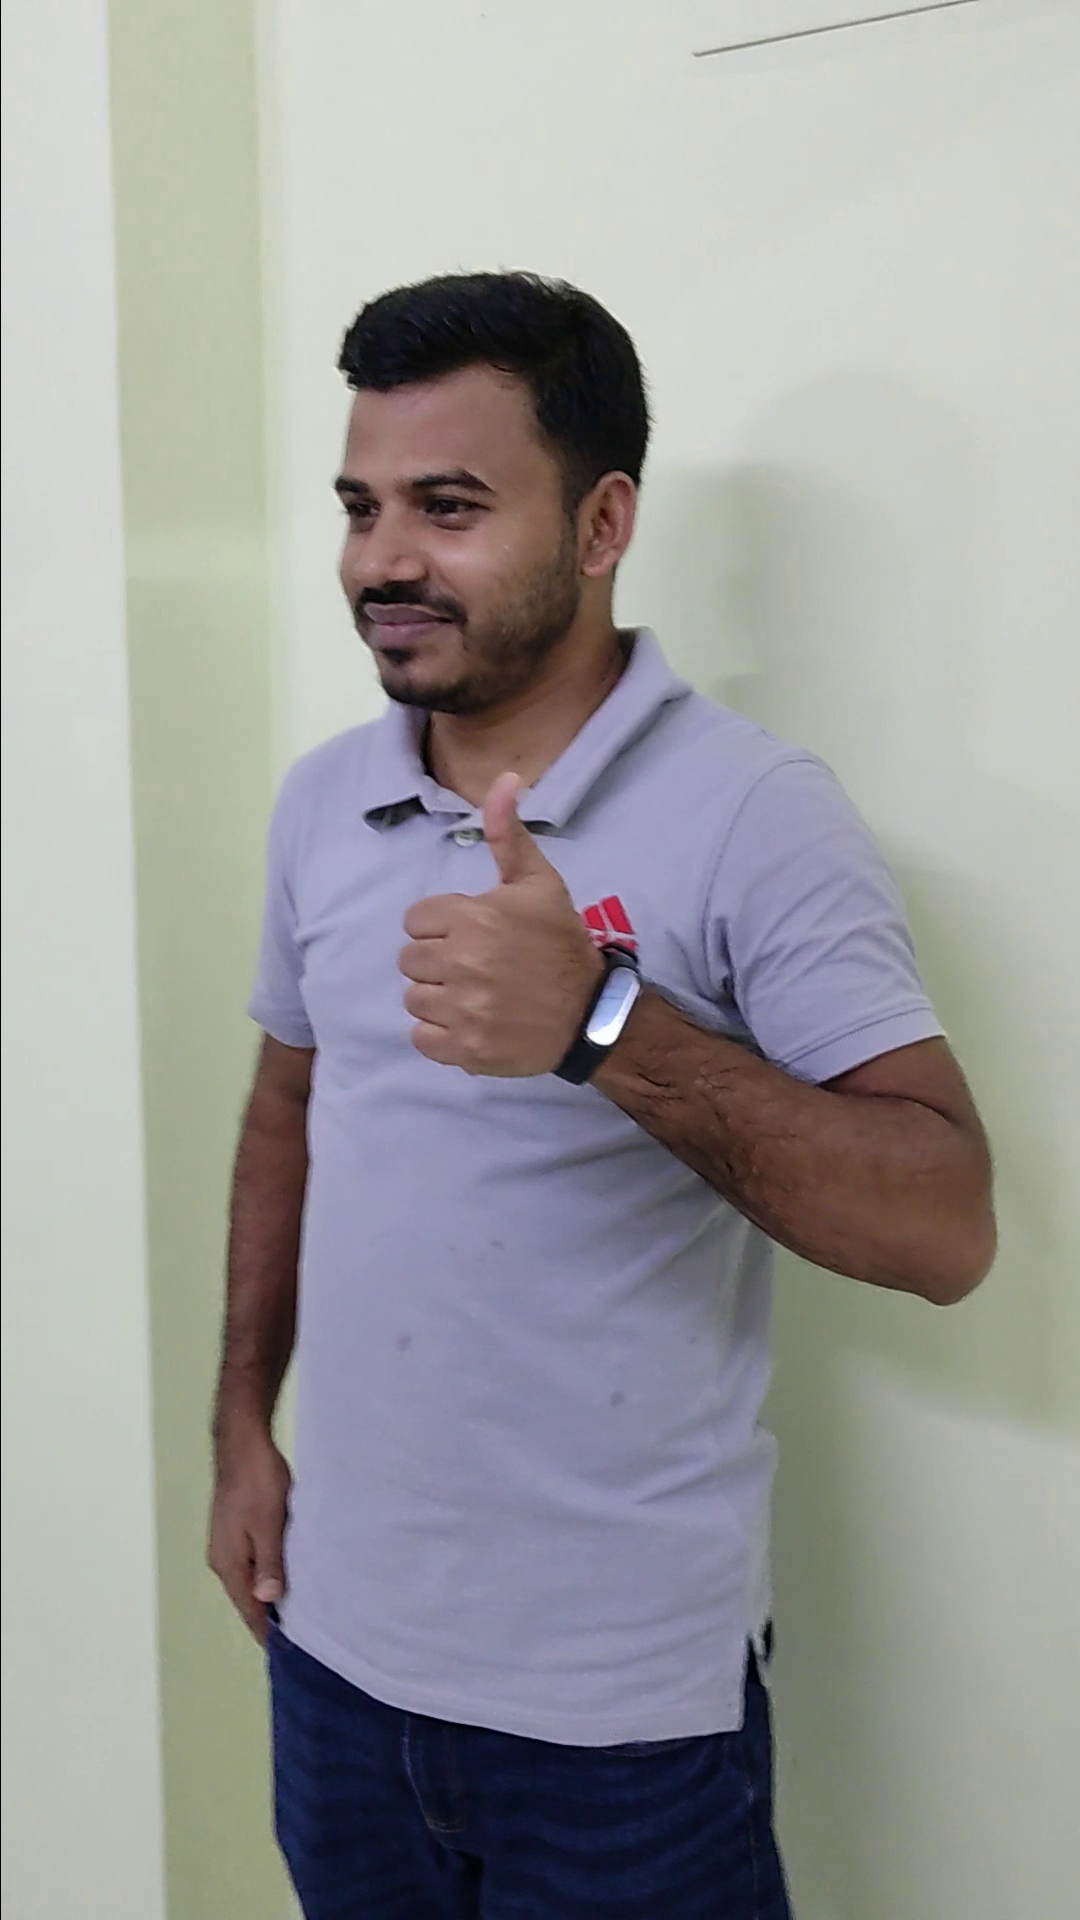Like: (382, 752, 622, 1091)
None: (175, 1378, 323, 1672)
